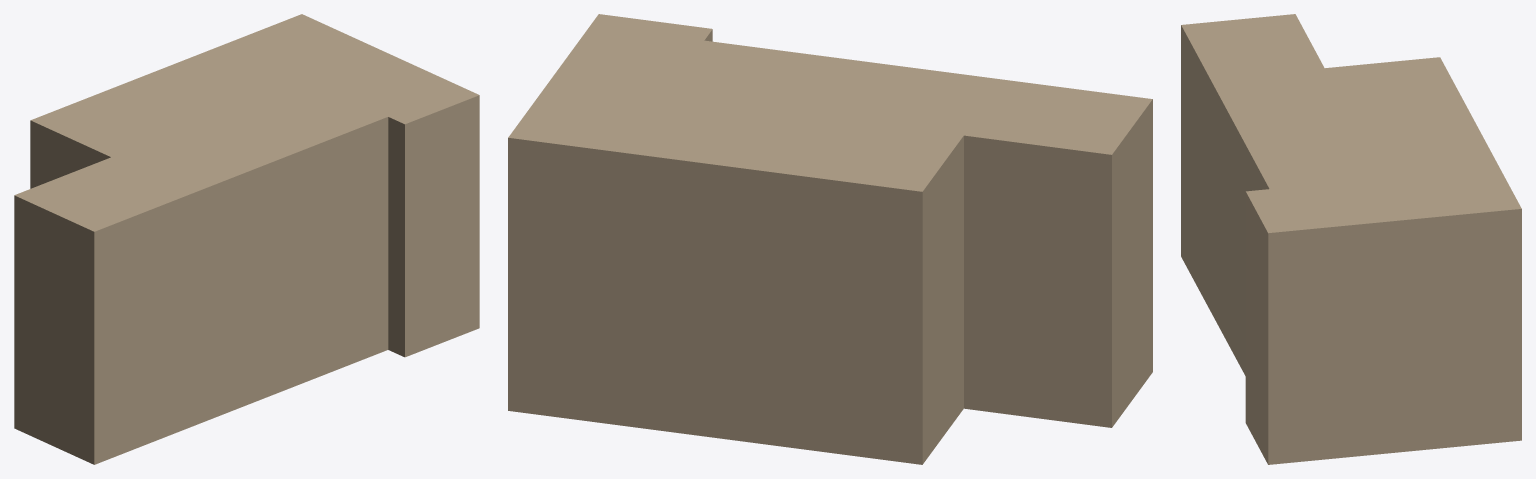
The model's file is bld_106456484.dae.
3 renders of one model, left to right at view 1: azimuth 30°, elevation 25°; view 2: azimuth 150°, elevation 25°; view 3: azimuth 270°, elevation 25°, orthographic. The views are drawn at different scales.
Parts seen in each view (by area): view 1: bld_106456484; view 2: bld_106456484; view 3: bld_106456484.
Boxes of the visible parts, bbox=[...] form: bld_106456484: bbox=[14, 14, 479, 464]; bld_106456484: bbox=[508, 14, 1152, 464]; bld_106456484: bbox=[1181, 14, 1521, 464].
Bounding box in the file's own units: 16.22 × 10.66 × 8.
